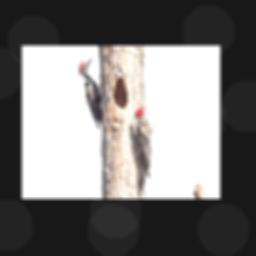Woodpecker: (78, 56, 102, 129), (133, 108, 151, 198)
